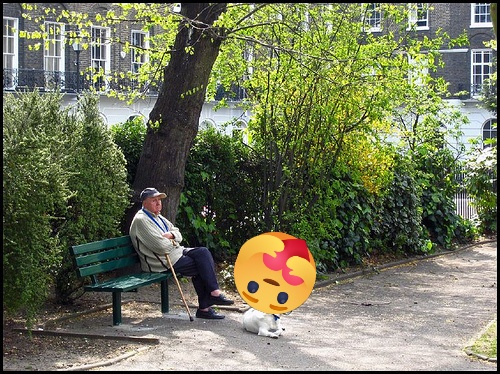care: (234, 232, 316, 314)
